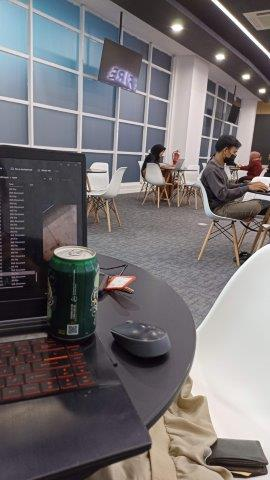kaleng: (47, 246, 99, 341)
